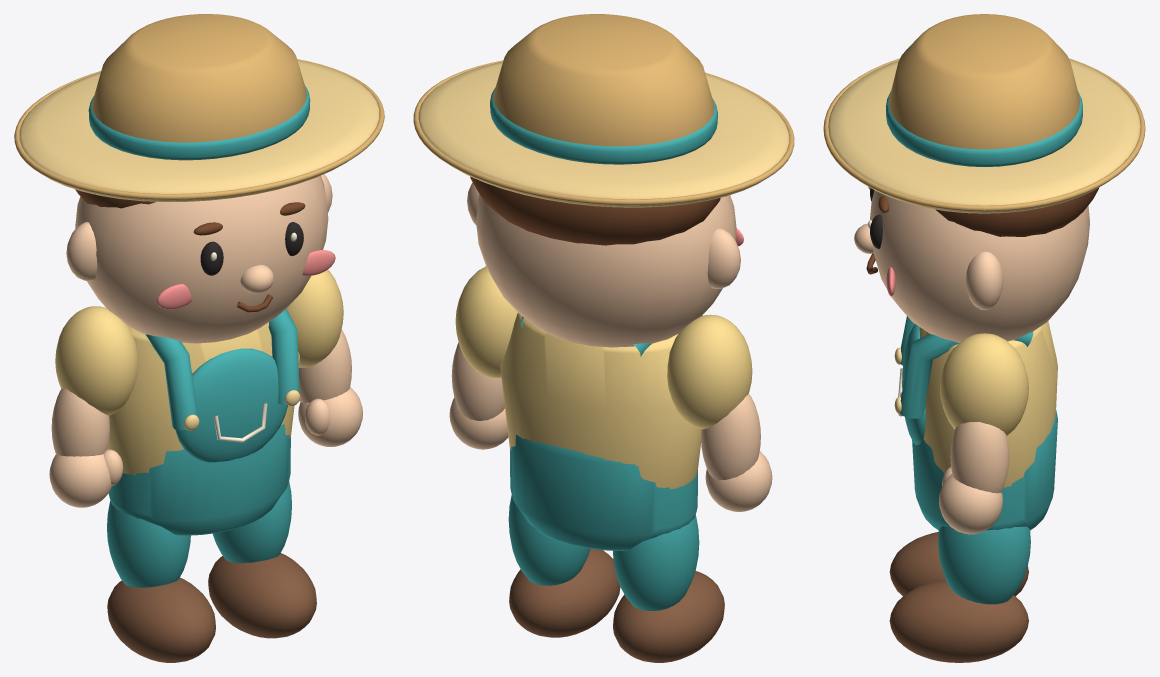
File: farmer.glb
3 views of the same model, side by side, from view 1: azimuth 30°, elevation 25°; view 2: azimuth 150°, elevation 25°; view 3: azimuth 270°, elevation 25° (orthographic). The views are drawn at different scales.
Parts seen in each view (by area): view 1: Round face, Straw hat crown, Sculpted hat brim, Overall trousers, Overall bib, Tailored shirt, Rounded boot.001, Rounded boot, Puffed sleeve, Trouser leg, Teal hat ribbon, Puffed sleeve.001 (+15 smaller); view 2: Straw hat crown, Round face, Sculpted hat brim, Tailored shirt, Overall trousers, Hair cap, Puffed sleeve, Rounded boot, Rounded boot.001, Trouser leg, Puffed sleeve.001, Teal hat ribbon (+7 smaller); view 3: Straw hat crown, Sculpted hat brim, Round face, Rounded boot.001, Puffed sleeve.001, Tailored shirt, Trouser leg.001, Overall trousers, Teal hat ribbon, Forearm.001, Hat seam, Hair cap (+5 smaller).
Part boxes in pixels (<box>): Round face: <box>75,175,328,343</box>; Straw hat crown: <box>92,14,306,160</box>; Sculpted hat brim: <box>19,60,379,201</box>; Overall trousers: <box>108,424,290,535</box>; Overall bib: <box>175,348,287,462</box>; Tailored shirt: <box>107,322,299,475</box>; Rounded boot.001: <box>208,553,316,638</box>; Rounded boot: <box>107,577,215,662</box>; Puffed sleeve: <box>55,306,137,415</box>; Trouser leg: <box>107,501,190,587</box>; Teal hat ribbon: <box>88,86,310,160</box>; Puffed sleeve.001: <box>286,269,343,367</box>; Straw hat crown: <box>493,14,714,164</box>; Round face: <box>476,194,736,347</box>; Sculpted hat brim: <box>418,61,789,207</box>; Tailored shirt: <box>500,313,701,489</box>; Overall trousers: <box>510,434,697,550</box>; Hair cap: <box>470,176,720,245</box>; Puffed sleeve: <box>667,314,752,429</box>; Rounded boot: <box>613,570,724,662</box>; Rounded boot.001: <box>509,549,620,637</box>; Trouser leg: <box>613,515,699,610</box>; Puffed sleeve.001: <box>455,266,517,377</box>; Teal hat ribbon: <box>490,87,717,164</box>; Straw hat crown: <box>889,14,1079,149</box>; Sculpted hat brim: <box>828,60,1140,213</box>; Round face: <box>870,190,1089,343</box>; Rounded boot.001: <box>889,580,1028,662</box>; Puffed sleeve.001: <box>940,333,1028,435</box>; Tailored shirt: <box>919,321,1057,487</box>; Trouser leg.001: <box>938,526,1030,604</box>; Overall trousers: <box>912,410,1057,530</box>; Teal hat ribbon: <box>886,91,1082,166</box>; Forearm.001: <box>950,422,1009,493</box>; Hat seam: <box>823,58,1145,211</box>; Hair cap: <box>935,187,1099,236</box>.
Size of the model in its own units: 0.992 by 1.7 by 0.832.
